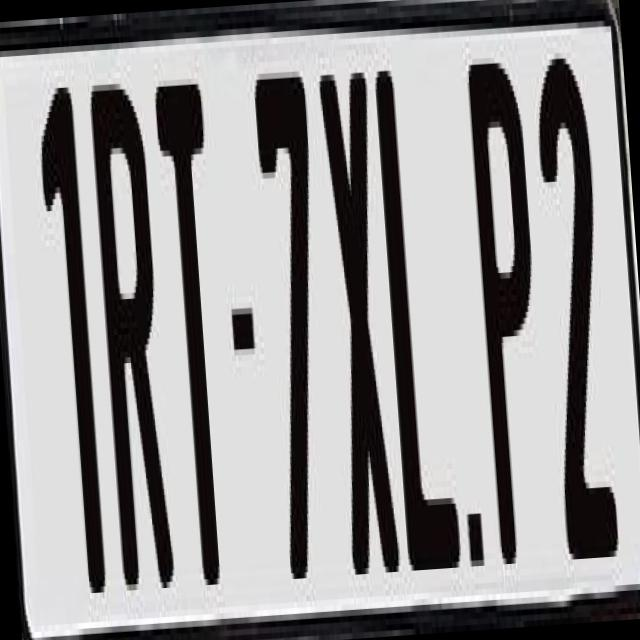1: (34, 70, 108, 582)
2: (530, 56, 625, 571)
7: (252, 64, 346, 590)
L: (374, 55, 466, 588)
P: (463, 56, 550, 570)
R: (85, 64, 182, 602)
T: (153, 72, 238, 598)
X: (314, 55, 402, 592)
